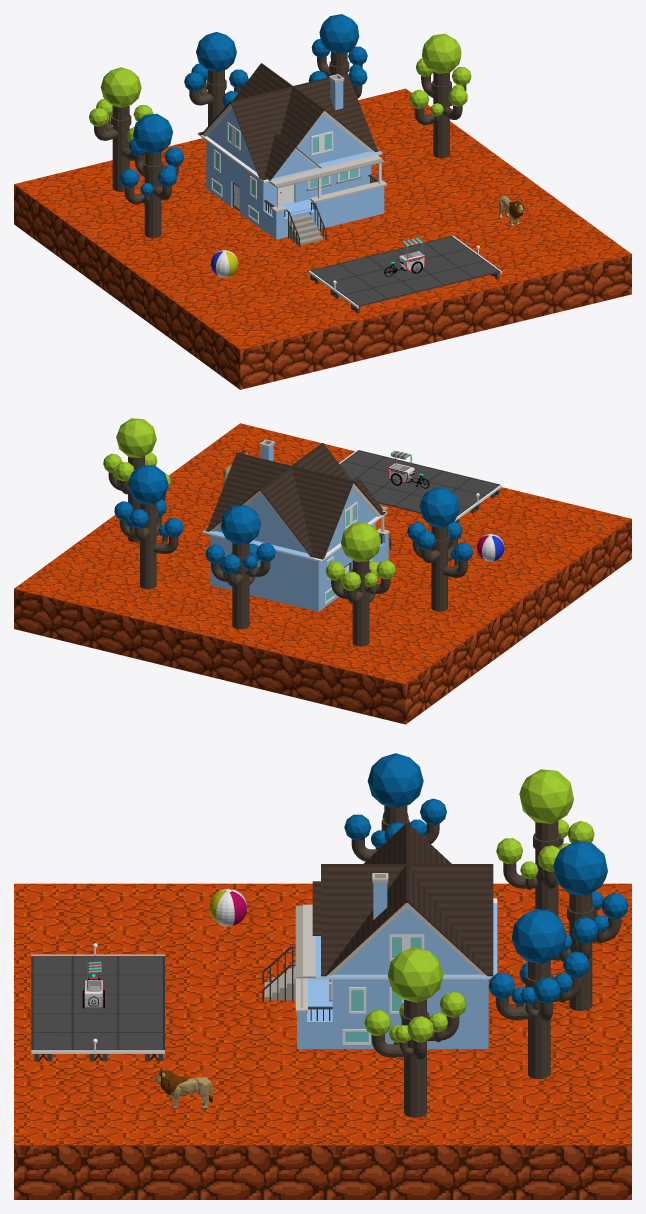
3 views of the same model, one above another, from view 1: azimuth 30°, elevation 25°; view 2: azimuth 150°, elevation 25°; view 3: azimuth 270°, elevation 25° (orthographic). The views are drawn at different scales.
Parts seen in each view (by area): view 1: Cube.001, Cube.1594, VEHICLES_SNOWBAL_BIKE, OBJRANDOM_BEACHBALL; view 2: Cube.001, Cube.1594, VEHICLES_SNOWBAL_BIKE, OBJRANDOM_BEACHBALL; view 3: Cube.001, Cube.1594, ANIMAL_LEON, OBJRANDOM_BEACHBALL, VEHICLES_SNOWBAL_BIKE.
Boxes of the visible parts, bbox=[...] form: Cube.001: bbox=[14, 14, 631, 389]; Cube.1594: bbox=[197, 63, 387, 246]; VEHICLES_SNOWBAL_BIKE: bbox=[384, 237, 425, 276]; OBJRANDOM_BEACHBALL: bbox=[211, 250, 238, 277]; Cube.001: bbox=[14, 418, 631, 724]; Cube.1594: bbox=[202, 439, 391, 611]; VEHICLES_SNOWBAL_BIKE: bbox=[388, 450, 429, 488]; OBJRANDOM_BEACHBALL: bbox=[477, 534, 504, 561]; Cube.001: bbox=[14, 753, 631, 1199]; Cube.1594: bbox=[262, 823, 497, 1048]; ANIMAL_LEON: bbox=[155, 1069, 212, 1109]; OBJRANDOM_BEACHBALL: bbox=[209, 888, 246, 926]; VEHICLES_SNOWBAL_BIKE: bbox=[82, 961, 105, 1008].
Size of the model in its own units: 4000 by 1614 by 4000.
Materials: 35 (5 with a texture image).
